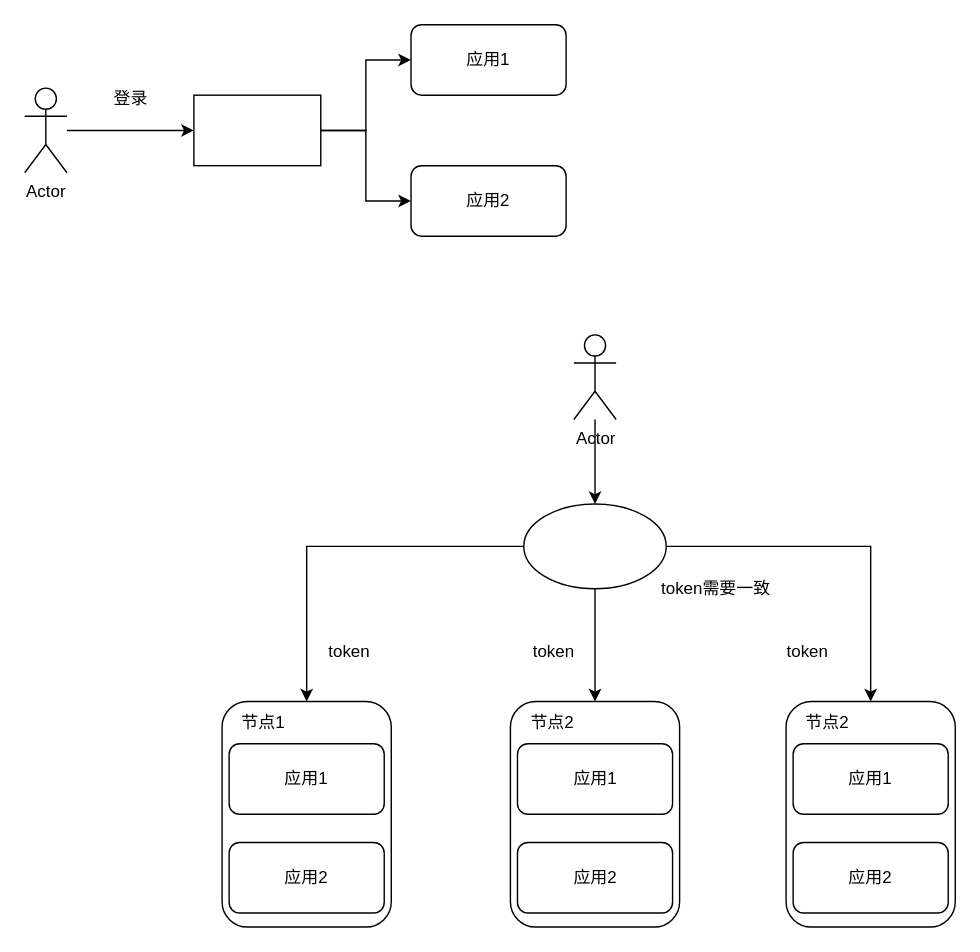
The diagram is 980 pixels wide and 952 high, and some of its shapes have lost their labels. The centre of each missing label's shape, as x and y in pixels:
浏览器: point (594, 546)
认证系统 SSO: point (256, 130)
